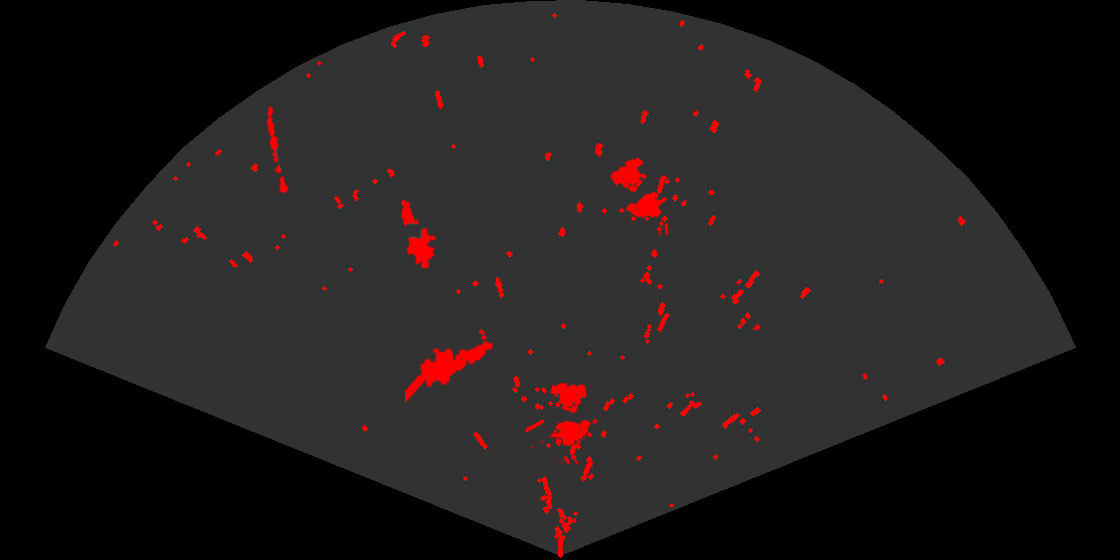cage: (526, 381, 599, 464), (609, 155, 669, 235)
chain: (265, 105, 290, 197)
frogman: (405, 339, 495, 405), (400, 198, 438, 268)
